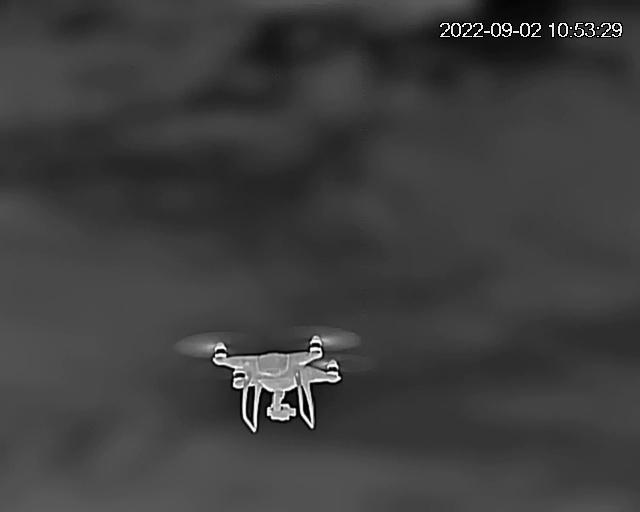DJI-Phantom: (179, 329, 365, 432)
